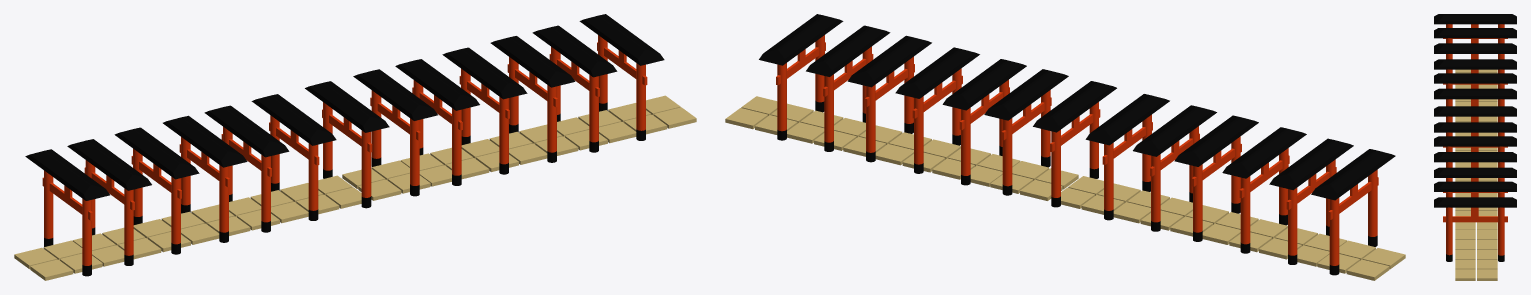
File: nezushrine1.fbx
3 views of the same model, side by side, from view 1: azimuth 30°, elevation 25°; view 2: azimuth 150°, elevation 25°; view 3: azimuth 270°, elevation 25° (orthographic). The views are drawn at different scales.
Visible parts, largest first — view 1: Cylinder; view 2: Cylinder; view 3: Cylinder.
Boxes of the visible parts, box(x1,y1,x2,y2) form: Cylinder: box(14, 14, 696, 280); Cylinder: box(725, 14, 1405, 280); Cylinder: box(1434, 14, 1516, 280).
Bounding box in the file's own units: 9234 × 1257 × 1500.
